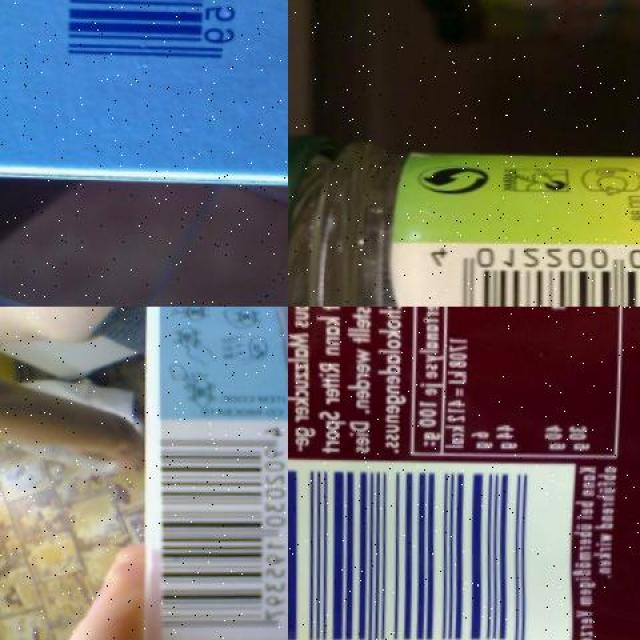Barcode: (288, 454, 580, 640), (147, 417, 288, 640), (44, 0, 277, 80), (420, 234, 640, 306)
